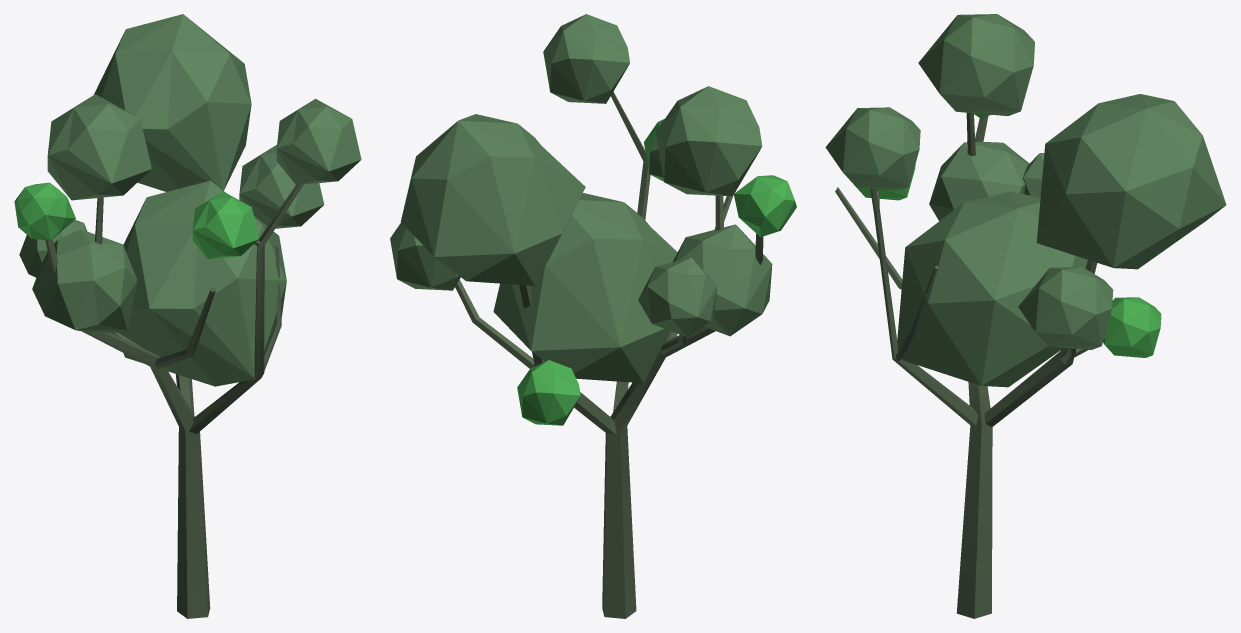
The model's file is birch-tree2.fbx.
3 renders of one model, left to right at view 1: azimuth 30°, elevation 25°; view 2: azimuth 150°, elevation 25°; view 3: azimuth 270°, elevation 25°, orthographic. The views are drawn at different scales.
Parts seen in each view (by area): view 1: birch-tree2; view 2: birch-tree2; view 3: birch-tree2.
Part boxes in pixels (x1,y1,x2,y2): birch-tree2: [14, 14, 361, 618]; birch-tree2: [390, 14, 796, 618]; birch-tree2: [825, 14, 1226, 618].
Bounding box in the file's own units: 467 × 695 × 459.
